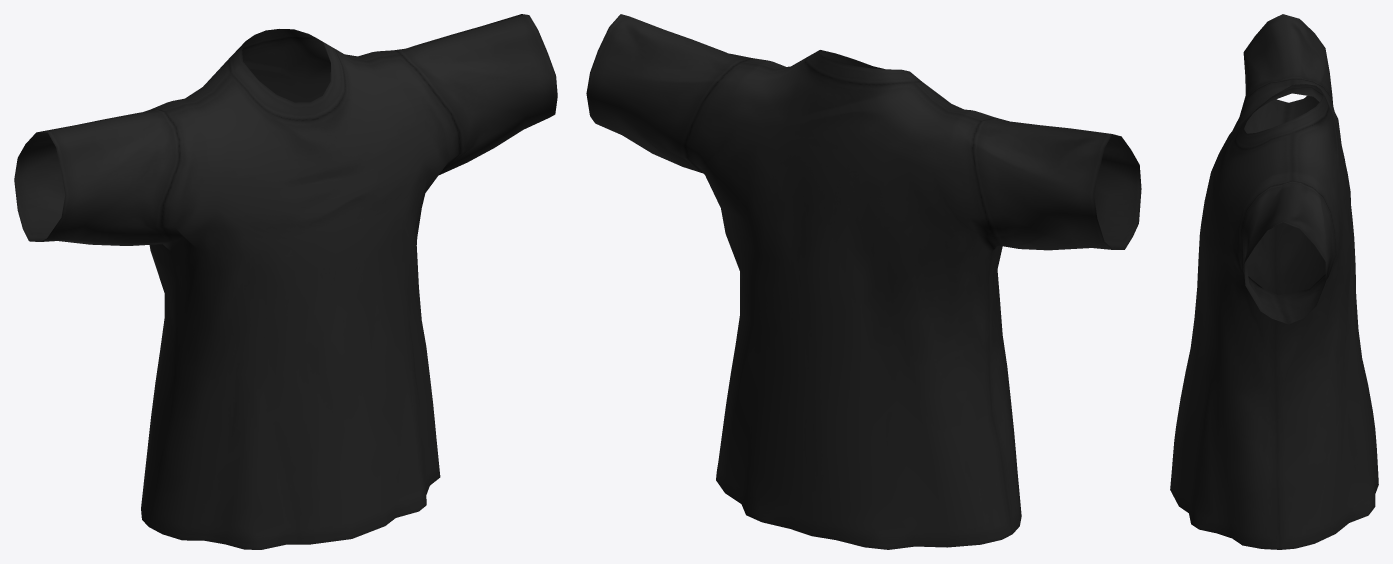
File: black_tpose.gltf
3 views of the same model, side by side, from view 1: azimuth 30°, elevation 25°; view 2: azimuth 150°, elevation 25°; view 3: azimuth 270°, elevation 25° (orthographic). The views are drawn at different scales.
Parts seen in each view (by area): view 1: Body.014; view 2: Body.014; view 3: Body.014.
Part boxes in pixels (x1,y1,x2,y2): Body.014: (14, 14, 557, 549); Body.014: (586, 14, 1141, 549); Body.014: (1170, 14, 1378, 549).
Bounding box in the file's own units: 0.8467 × 0.704 × 0.3368.
1 material, 1 textured.
